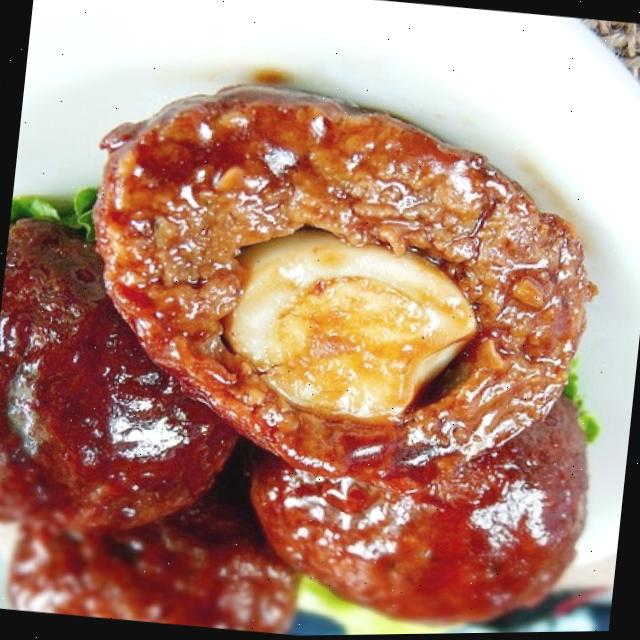猪肉菜式: (0, 42, 632, 640)
